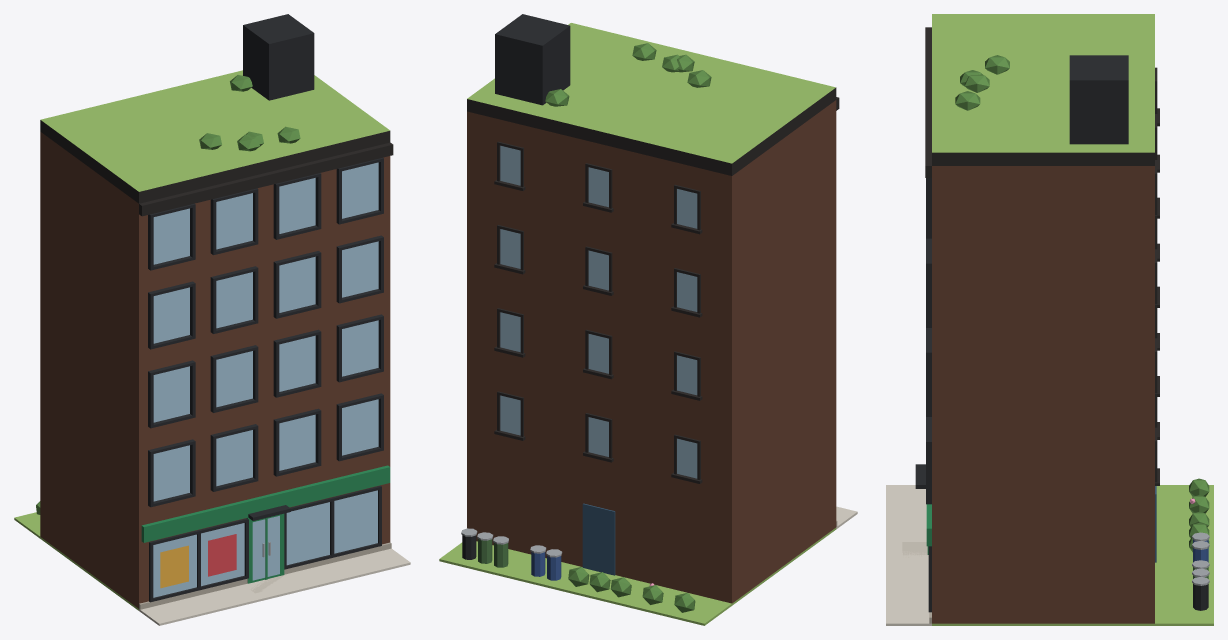
File: Blok_duz_5k_6_Hafif.fbx
The picture shows the model from 3 angles, left to right: view 1: azimuth 30°, elevation 25°; view 2: azimuth 150°, elevation 25°; view 3: azimuth 270°, elevation 25°; orthographic projection. The views are drawn at different scales.
Parts seen in each view (by area): view 1: Blok_duz_5k_6_Hafif; view 2: Blok_duz_5k_6_Hafif; view 3: Blok_duz_5k_6_Hafif.
Boxes of the visible parts, x1,y1,x2,y2 form: Blok_duz_5k_6_Hafif: [14, 14, 410, 625]; Blok_duz_5k_6_Hafif: [439, 14, 857, 625]; Blok_duz_5k_6_Hafif: [886, 14, 1213, 625].
Bounding box in the file's own units: 10 × 18.12 × 10.
